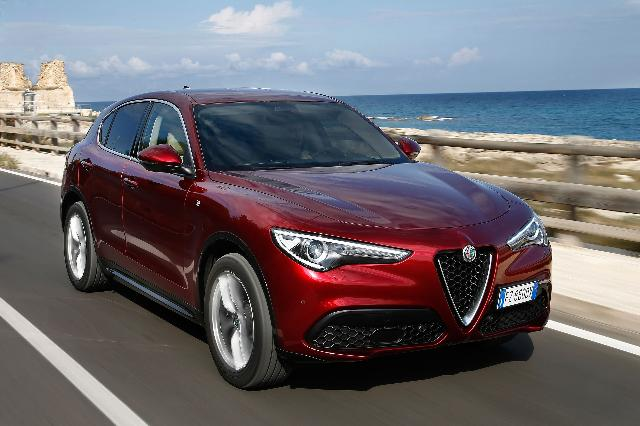alpha-romeo: (59, 88, 553, 394)
